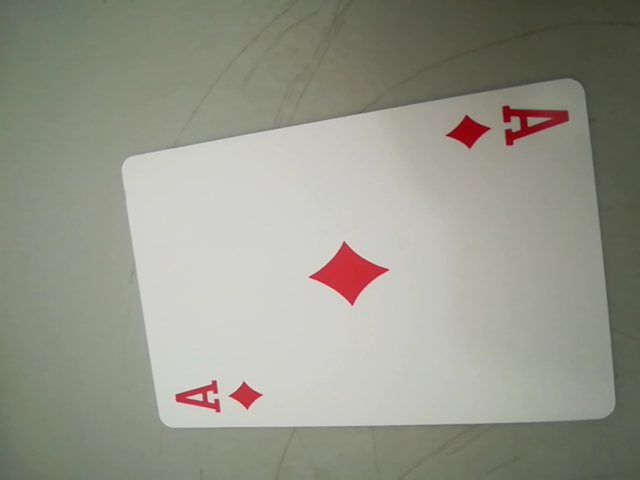fk a: (442, 96, 572, 157), (168, 368, 266, 422)
